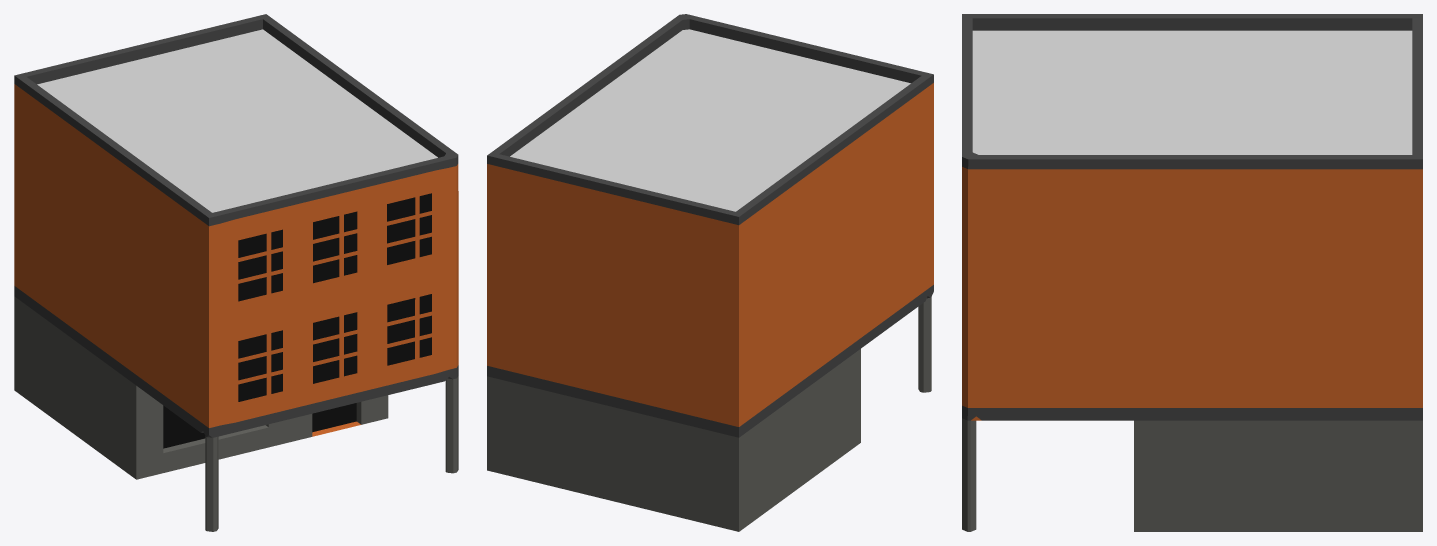
The model's file is house-2.glb.
3 renders of one model, left to right at view 1: azimuth 30°, elevation 25°; view 2: azimuth 150°, elevation 25°; view 3: azimuth 270°, elevation 25°, orthographic. The views are drawn at different scales.
Size of the model in its own units: 1.46 by 1.74 by 1.95.
